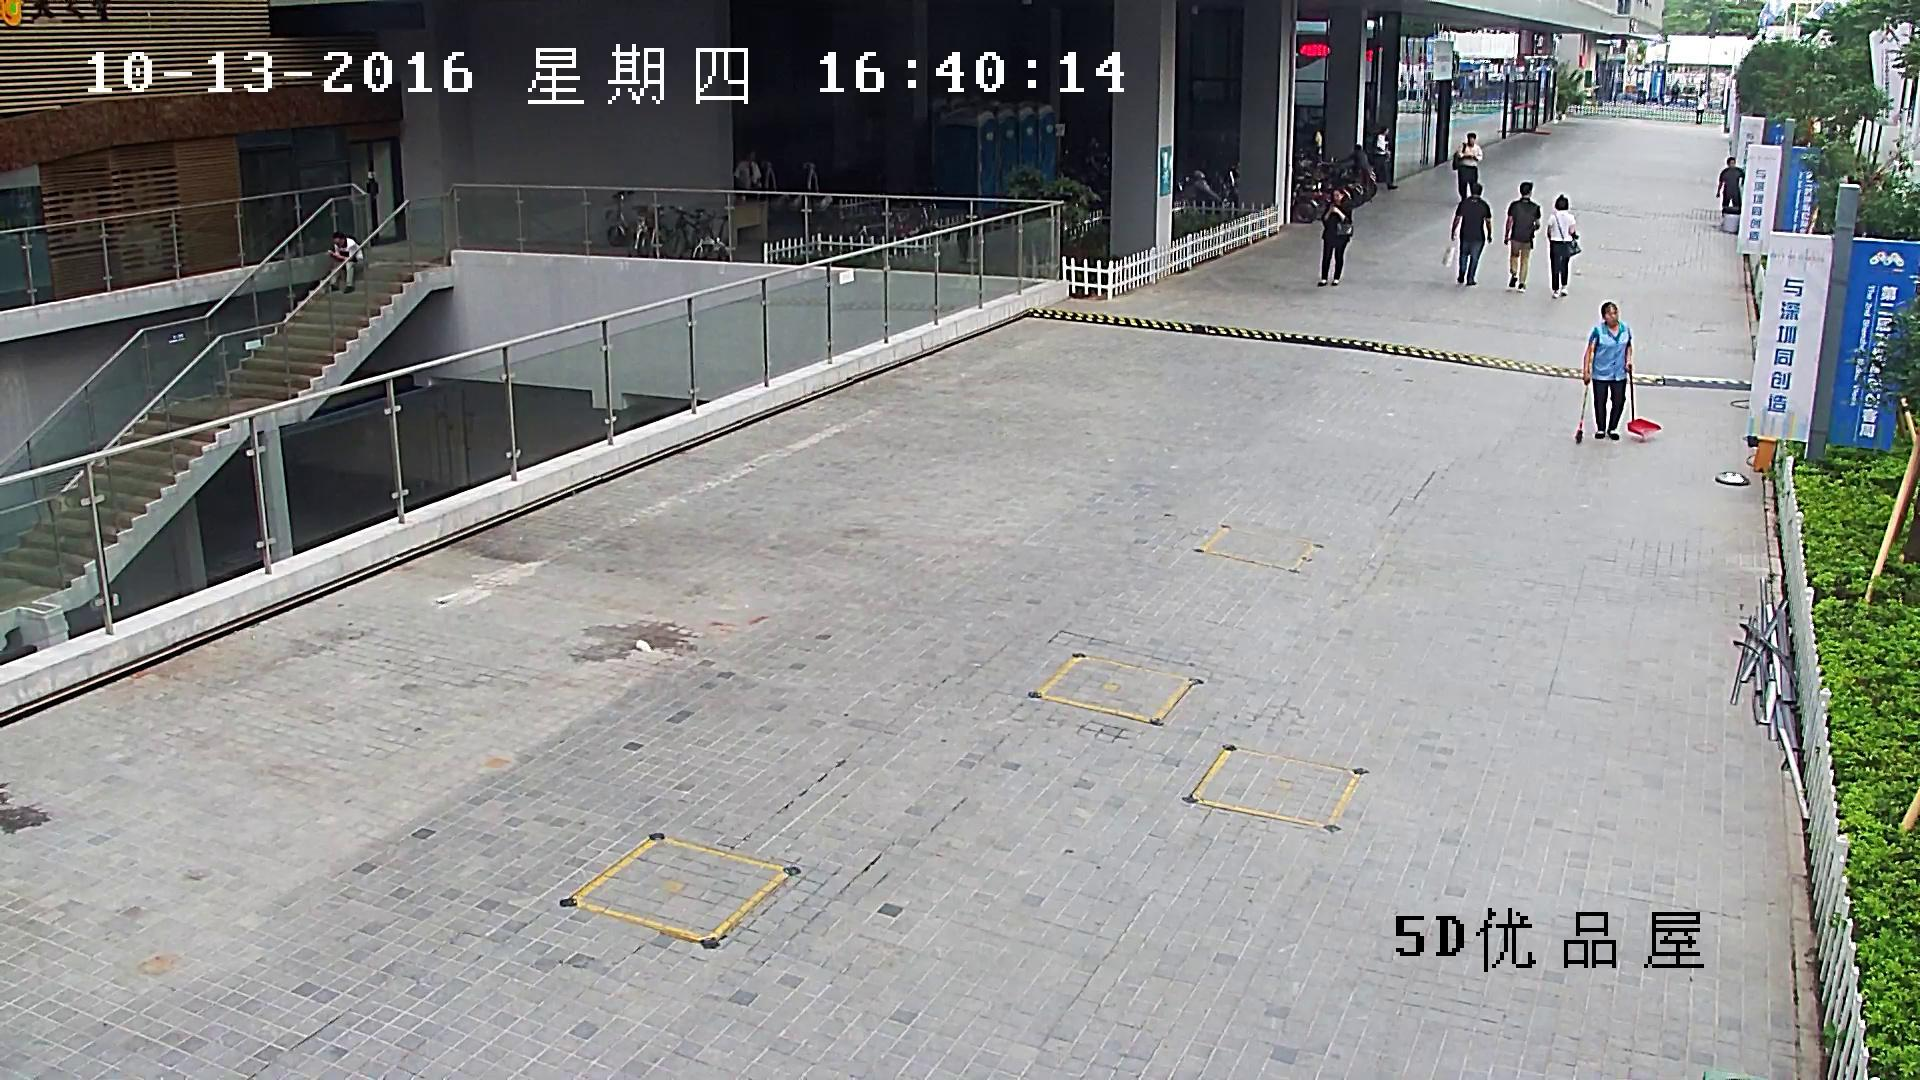person: (1574, 303, 1662, 443), (1583, 302, 1630, 439), (1441, 184, 1492, 285), (1503, 181, 1540, 292), (1546, 193, 1581, 297), (1316, 186, 1353, 286), (327, 231, 365, 293), (1452, 132, 1482, 200), (1715, 156, 1744, 214), (733, 148, 762, 200), (1374, 126, 1398, 189), (1670, 81, 1680, 104), (1696, 94, 1703, 124)
